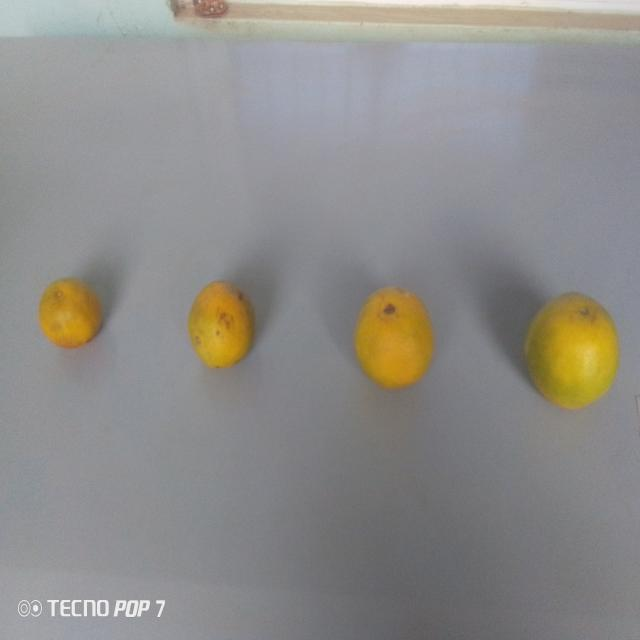Ripe orange: (520, 290, 628, 417), (351, 278, 435, 400), (172, 271, 256, 379), (36, 277, 108, 370)
